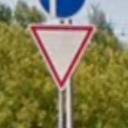preferencia: (28, 20, 96, 92)
